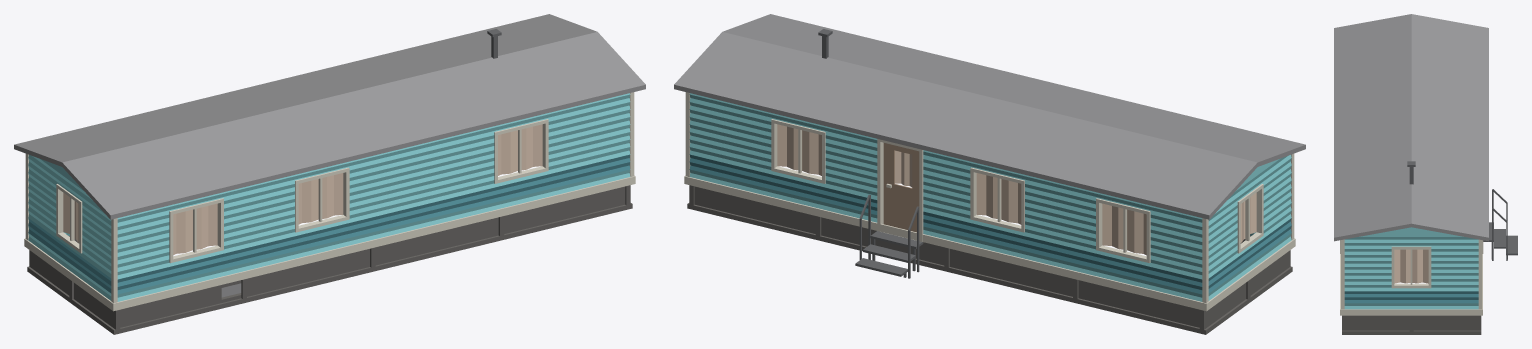
Rendered from trailer-home-a.glb.
The picture shows the model from 3 angles, left to right: view 1: azimuth 30°, elevation 25°; view 2: azimuth 150°, elevation 25°; view 3: azimuth 270°, elevation 25°; orthographic projection. The views are drawn at different scales.
Parts seen in each view (by area): view 1: TrailerHomeA; view 2: TrailerHomeA; view 3: TrailerHomeA.
Boxes of the visible parts, x1,y1,x2,y2 form: TrailerHomeA: (14, 14, 645, 334); TrailerHomeA: (674, 14, 1305, 334); TrailerHomeA: (1334, 14, 1517, 334).
Size of the model in its own units: 12.36 by 3.7 by 4.58.
